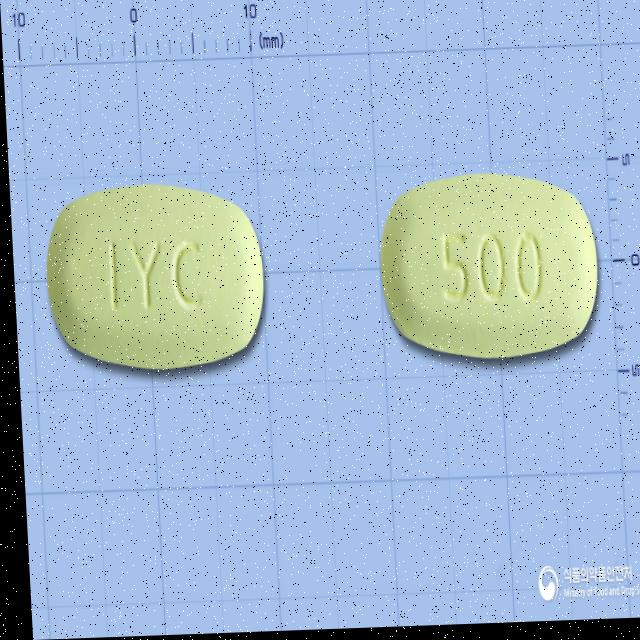Biktarvy: (372, 170, 599, 367), (40, 179, 266, 376)
